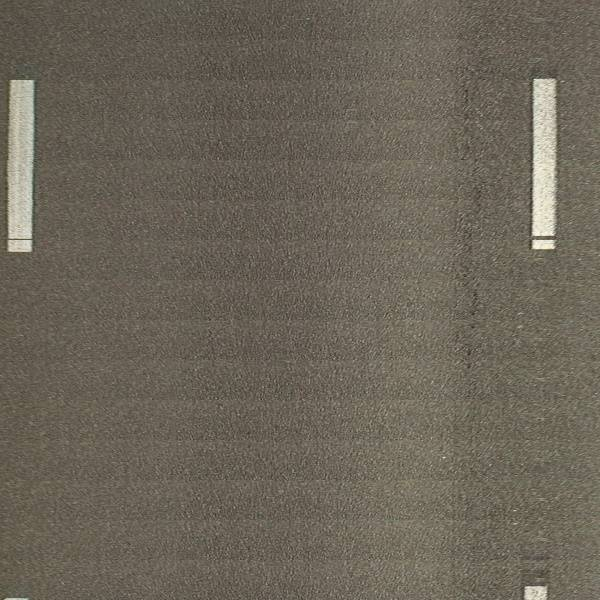road_damage: (453, 73, 485, 375)
